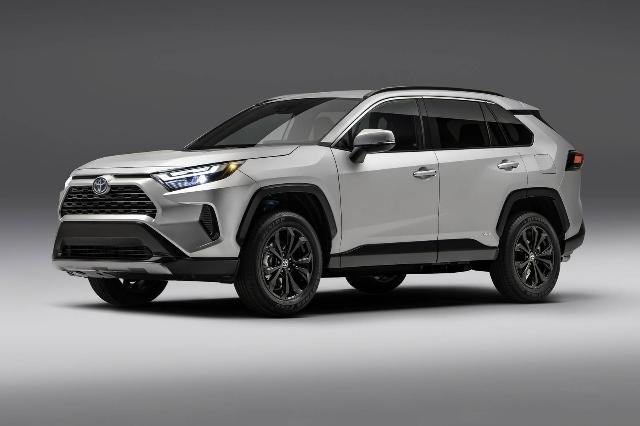toyota: (51, 85, 587, 317)
